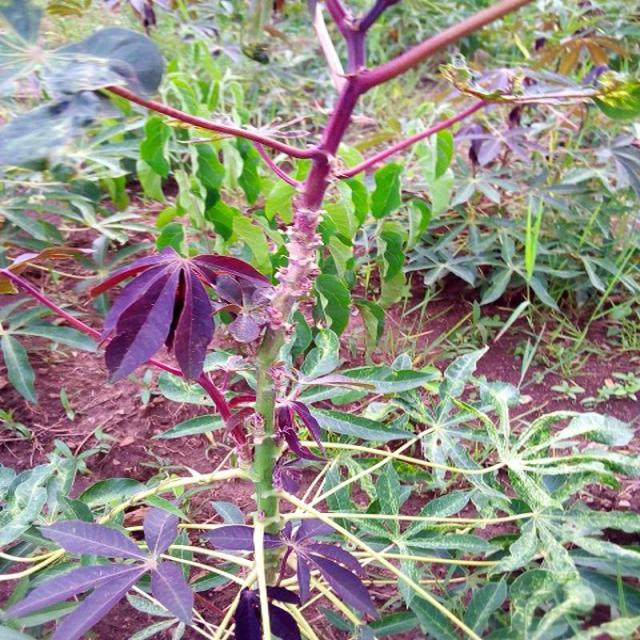cassava leaf: (92, 243, 274, 387)
